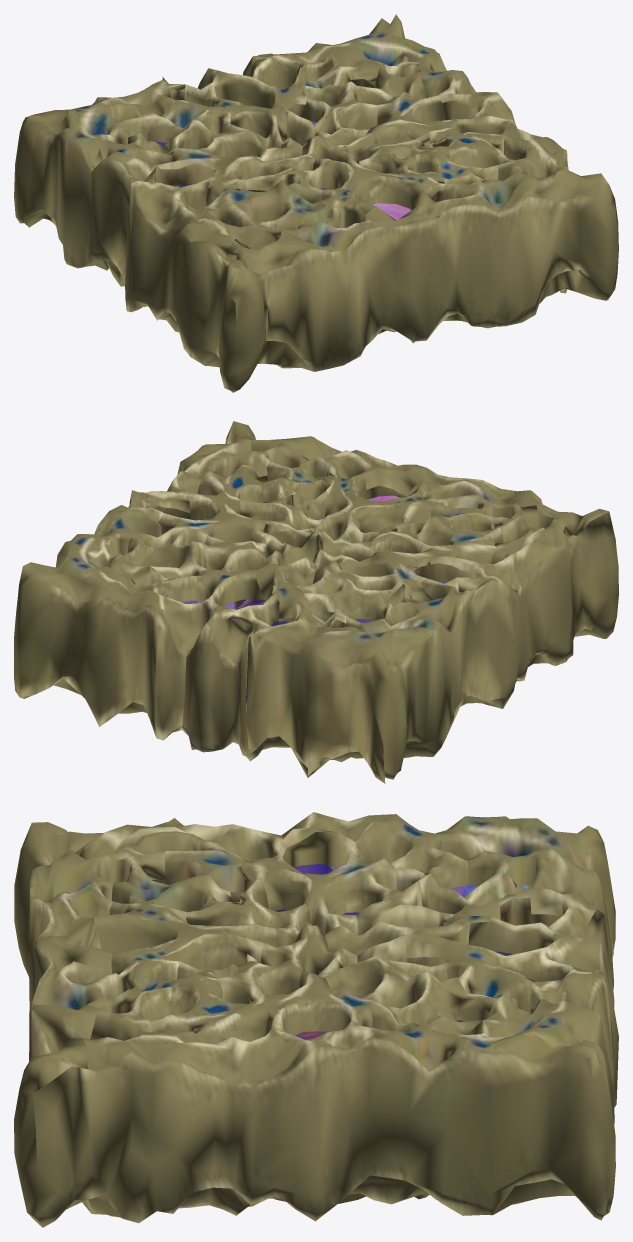
Rendered from tile002V2_lowPoly.glb.
3 renders of one model, top to bottom at view 1: azimuth 30°, elevation 25°; view 2: azimuth 150°, elevation 25°; view 3: azimuth 270°, elevation 25°, orthographic. The views are drawn at different scales.
Visible parts, largest first — view 1: tile6.003; view 2: tile6.003; view 3: tile6.003.
Part boxes in pixels (x1,y1,x2,y2): tile6.003: (14, 14, 618, 392); tile6.003: (14, 421, 618, 783); tile6.003: (14, 812, 618, 1227).
Bounding box in the file's own units: 1.01 × 0.4751 × 1.01.
3 materials, 3 textured.
